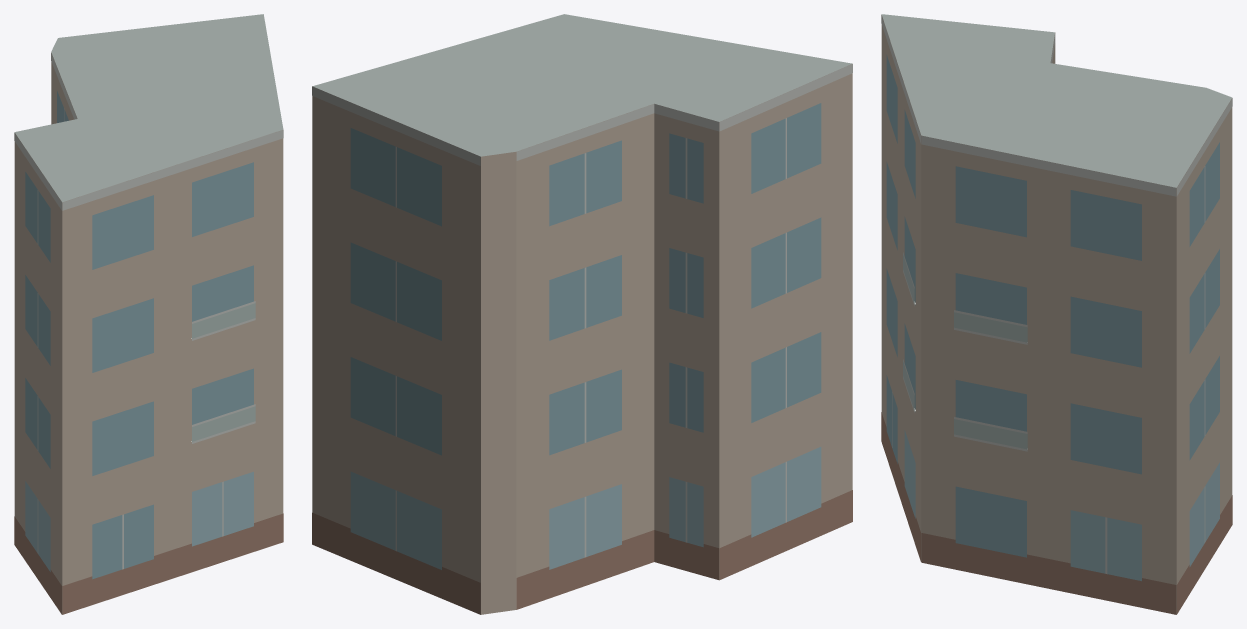
The model's file is survey-upis-32495128.glb.
3 views of the same model, side by side, from view 1: azimuth 30°, elevation 25°; view 2: azimuth 150°, elevation 25°; view 3: azimuth 270°, elevation 25° (orthographic). The views are drawn at different scales.
Parts seen in each view (by area): view 1: survey-upis-32495128.tmp; view 2: survey-upis-32495128.tmp; view 3: survey-upis-32495128.tmp.
Part boxes in pixels (x1,y1,x2,y2): survey-upis-32495128.tmp: [14, 14, 283, 614]; survey-upis-32495128.tmp: [312, 14, 852, 614]; survey-upis-32495128.tmp: [881, 14, 1232, 614].
Bounding box in the file's own units: 10.22 × 11.7 × 8.73.
